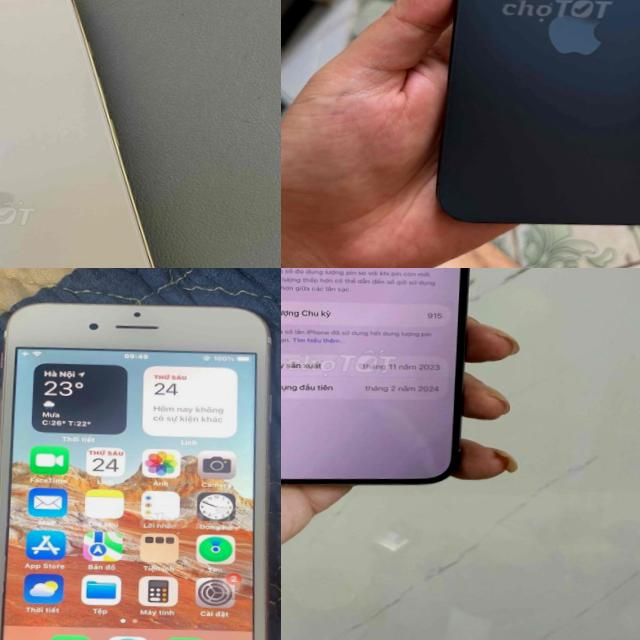gen_15: (407, 0, 640, 245), (281, 268, 497, 494)
gen_16: (0, 0, 153, 268)
gen_6: (0, 303, 270, 640)
